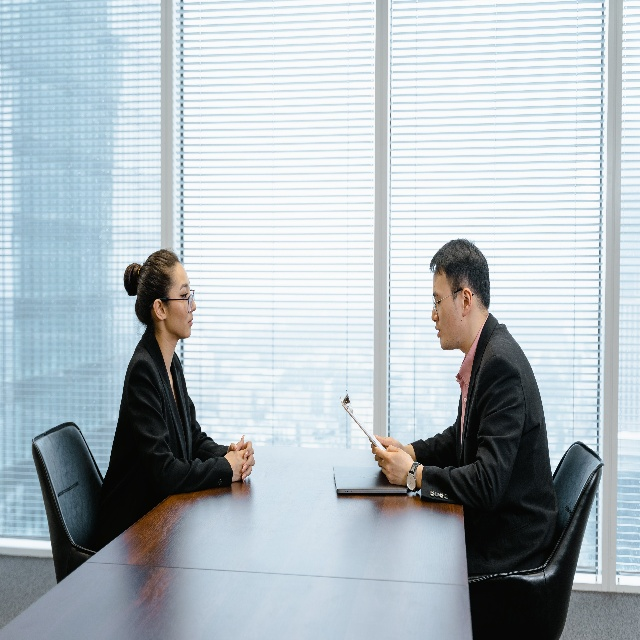Gafas: (149, 288, 196, 313), (432, 288, 474, 314)
Sin_guantes: (371, 443, 414, 486), (224, 434, 247, 483), (375, 434, 404, 451), (242, 441, 253, 483)
